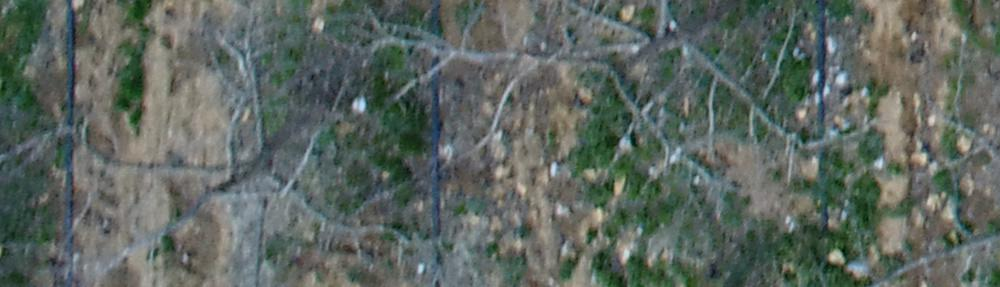apple: (352, 10, 884, 221), (28, 24, 417, 274)
